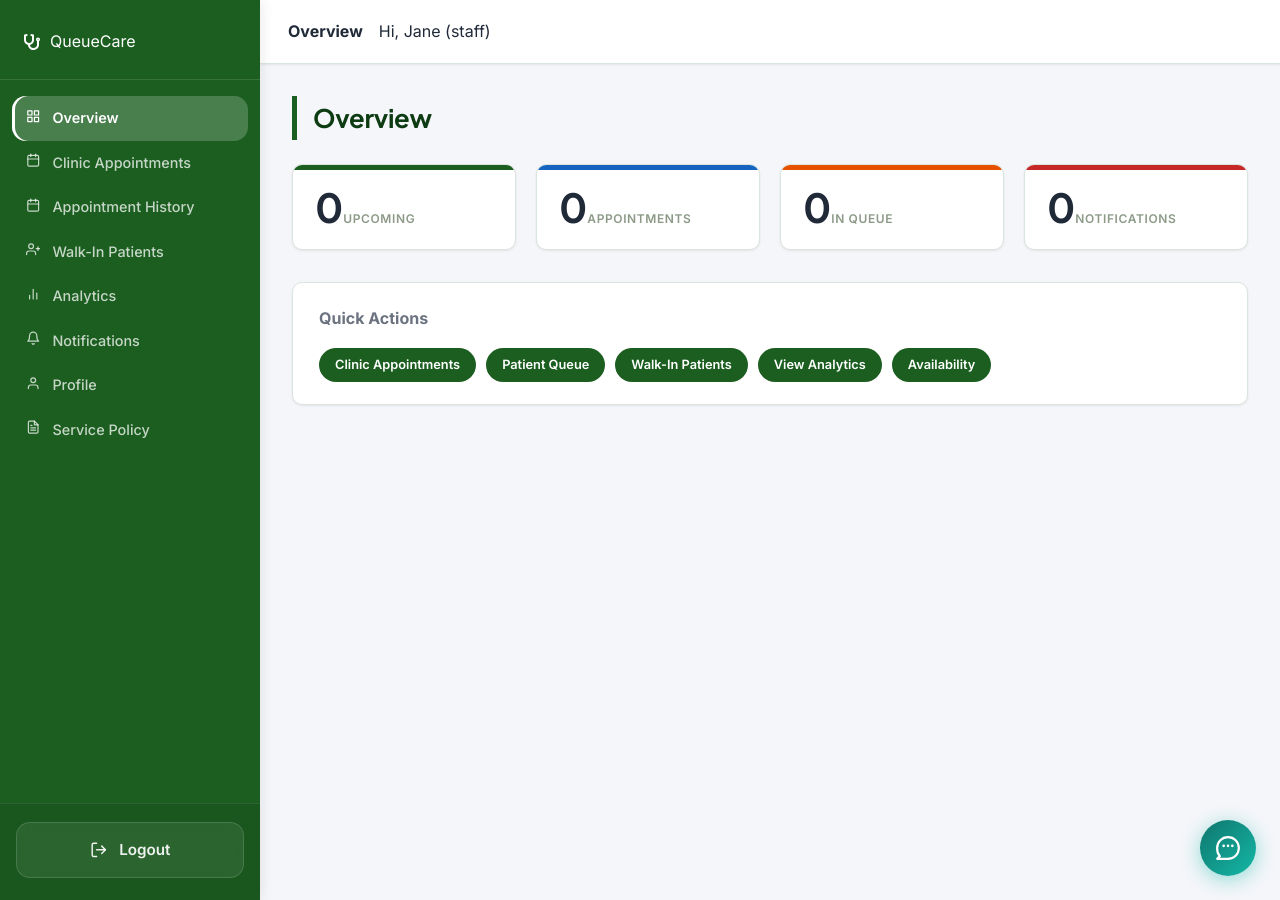
Test: Clicked Service Policy › renders Service Policy content when nav item is clicked
Check: the text "Service Policy" is shown, box [52,418,150,442]
Click the button "Service Policy": x=130, y=430 [12,408,248,452]
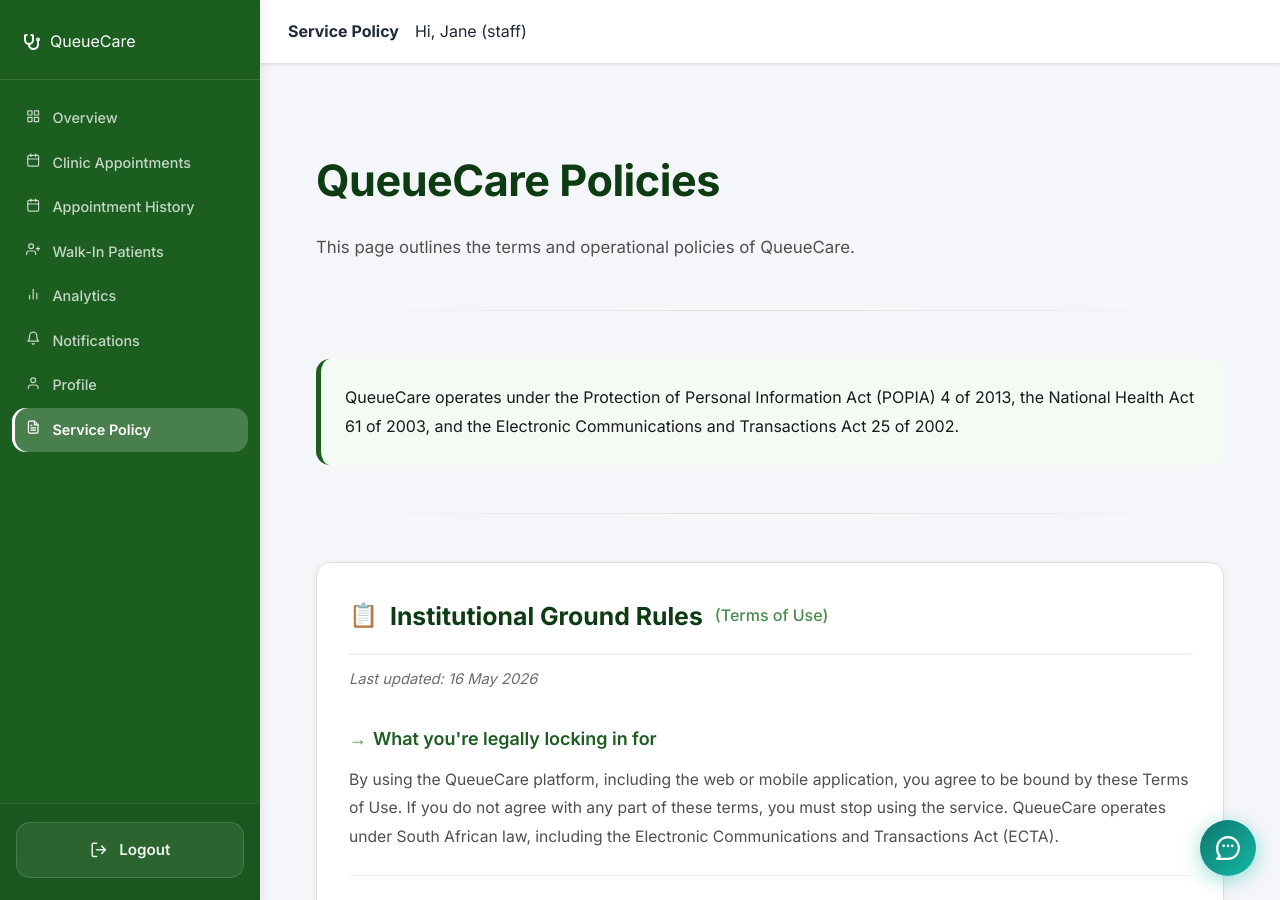
Check: the heading "Service Policy" is shown, box [288,18,399,45]
